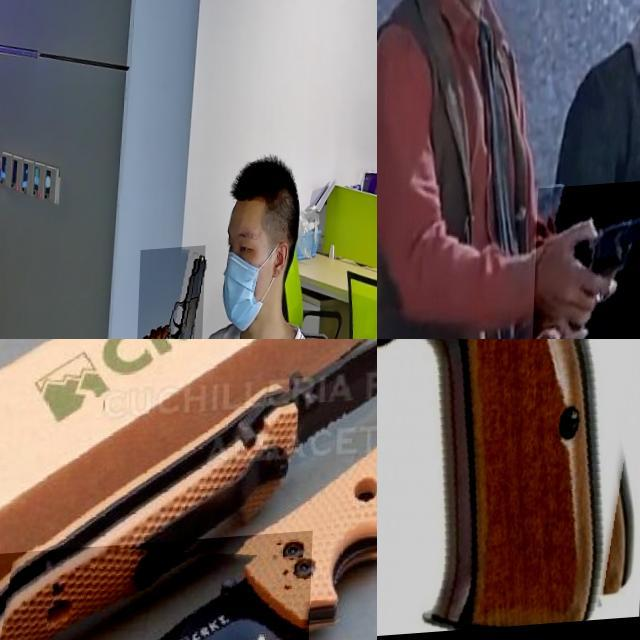-: (0, 536, 315, 640), (297, 339, 377, 451)
gun-knife-thesis - v11 Yolov5 augmented: (377, 339, 640, 640), (536, 184, 640, 339), (139, 250, 208, 339)
